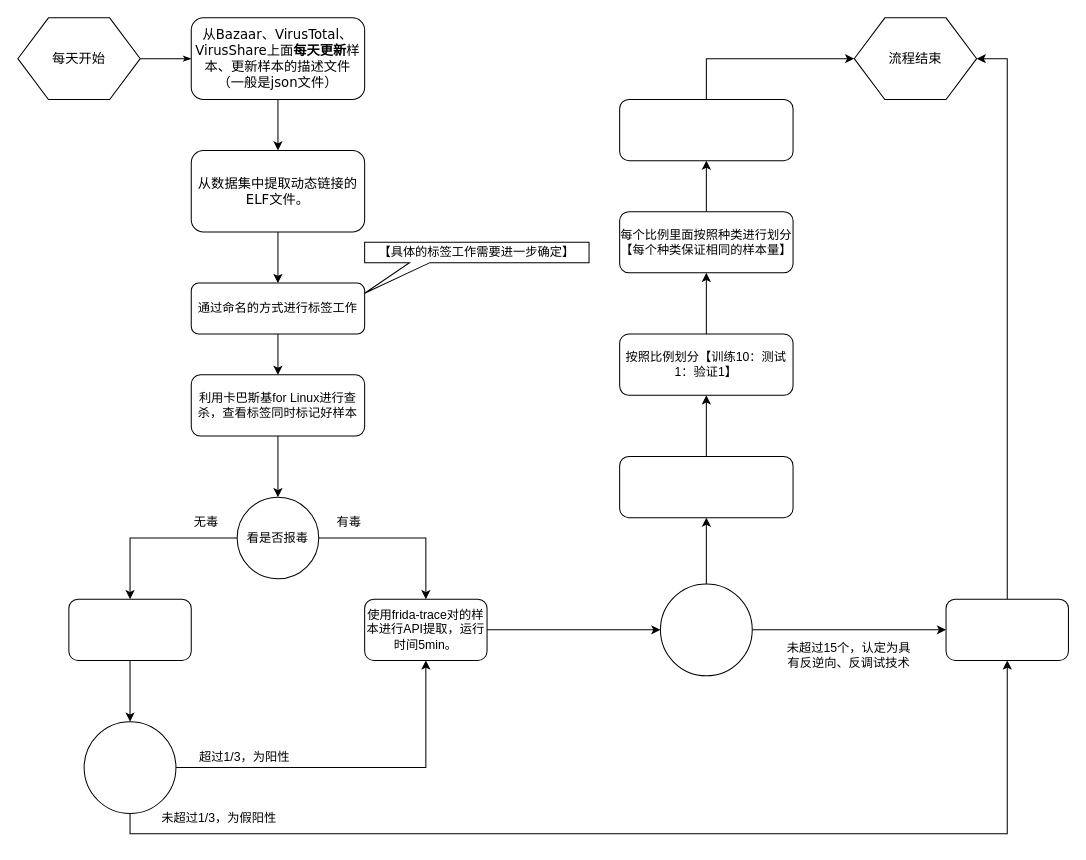
The diagram is 1086 pixels wide and 860 high, and some of its shapes have lost their labels. The box of each missing label's shape, as (x1, y1, x2, y2) in pixels:
从数据集中剔除样本: (945, 598, 1068, 660)
反馈结果超过1/3的引擎报毒: (83, 721, 176, 813)
对提取出来的API进行编码存储、打好标签: (619, 455, 793, 518)
提取的API是否超过15个（包括相同API）: (659, 583, 752, 676)
查询VirusTotal API看是否有毒: (68, 598, 191, 660)
种类里面按照每个月进行划分（考虑到验证集需要晚于训练集半年）: (619, 98, 793, 161)
